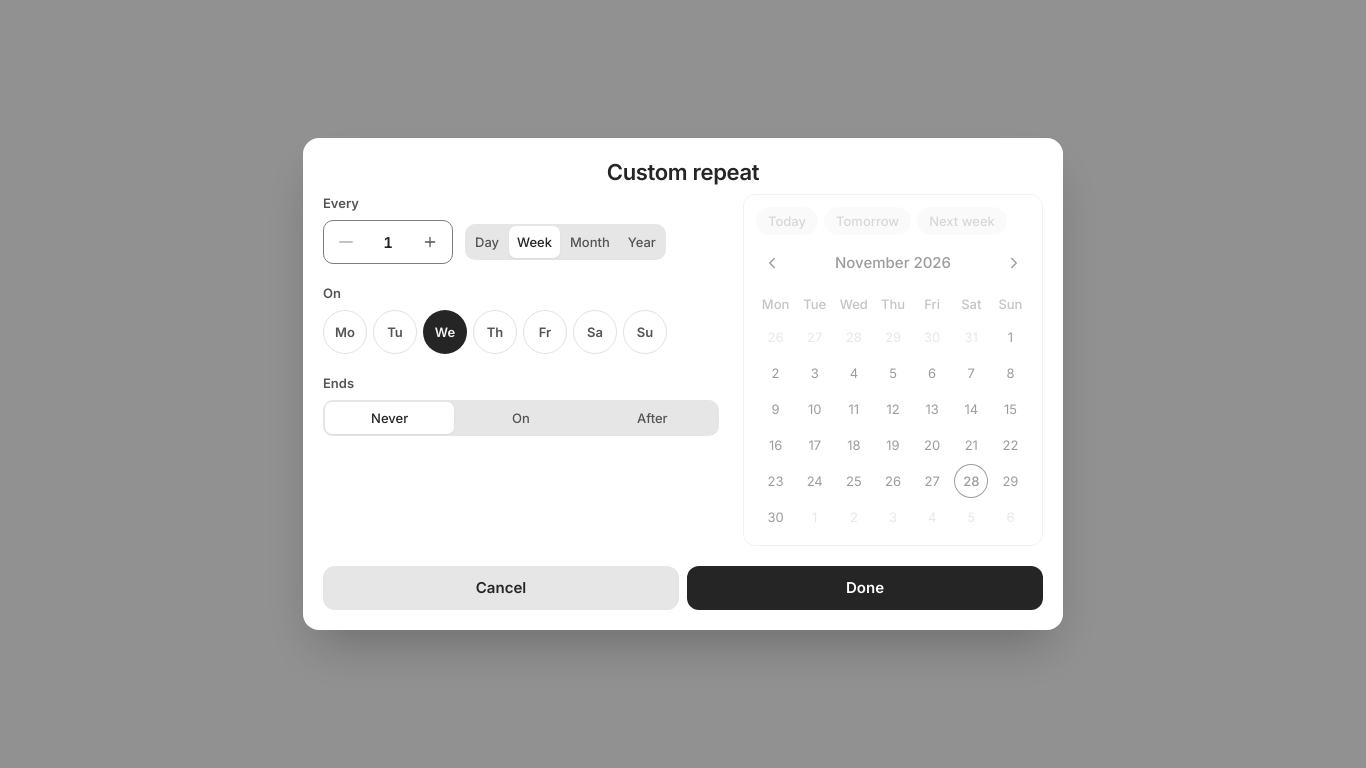
Test: Custom repeat dialog (#154) › Every takes digits only, and arrow keys step it
The width and height of the screenshot is (1366, 768).
Replace the text in the field labelled "Every" with "1a2" at coordinates (388, 242), box [366,221,410,263]
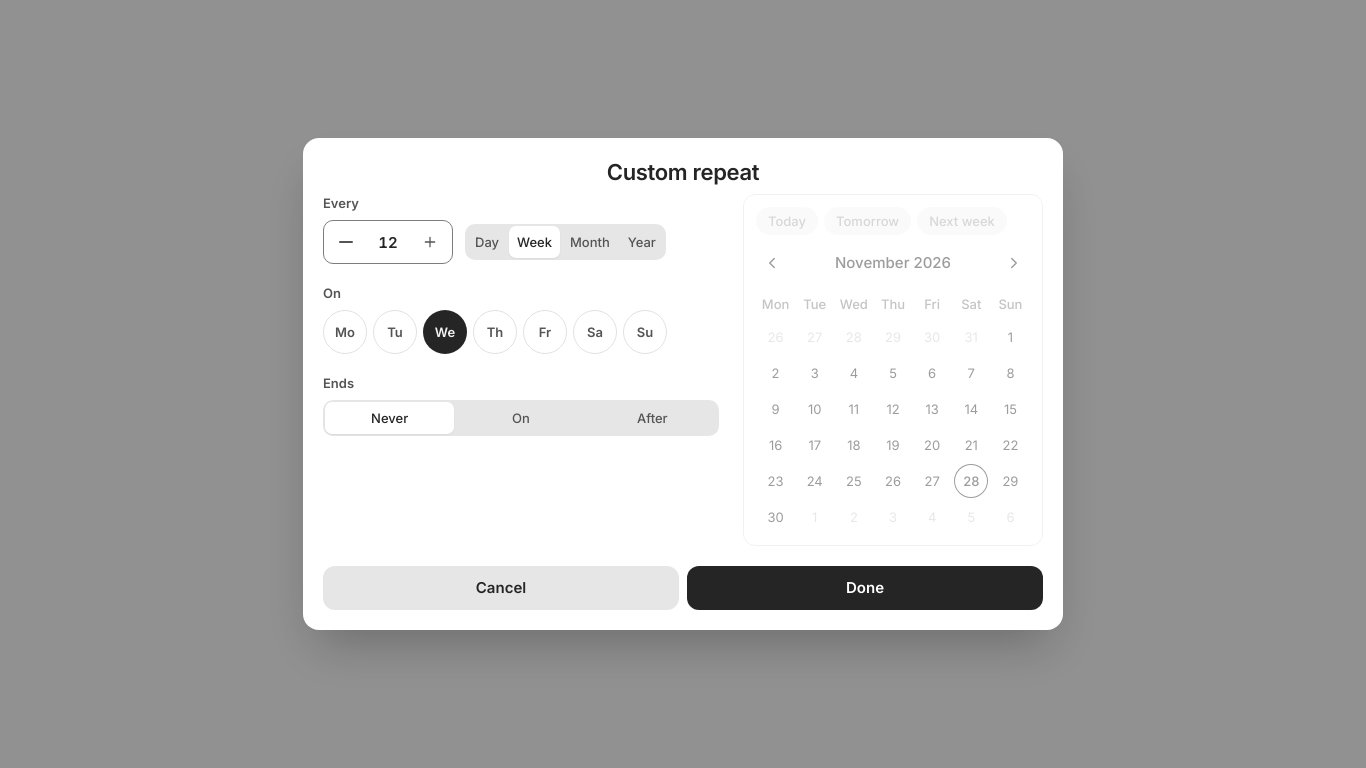
Expected: the field labelled "Every" holds "12", [366,221,410,263]
Press Arrowup
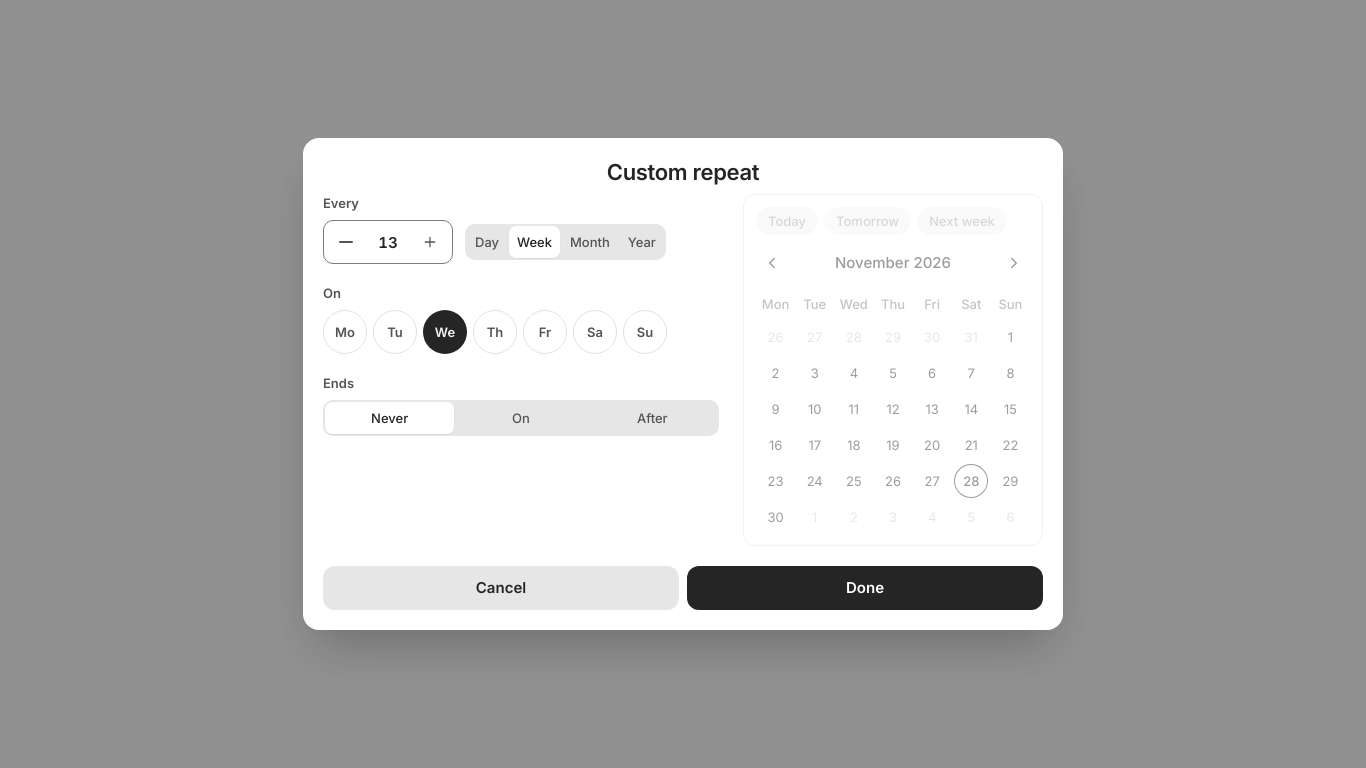
Expected: the field labelled "Every" holds "13", [366,221,410,263]
